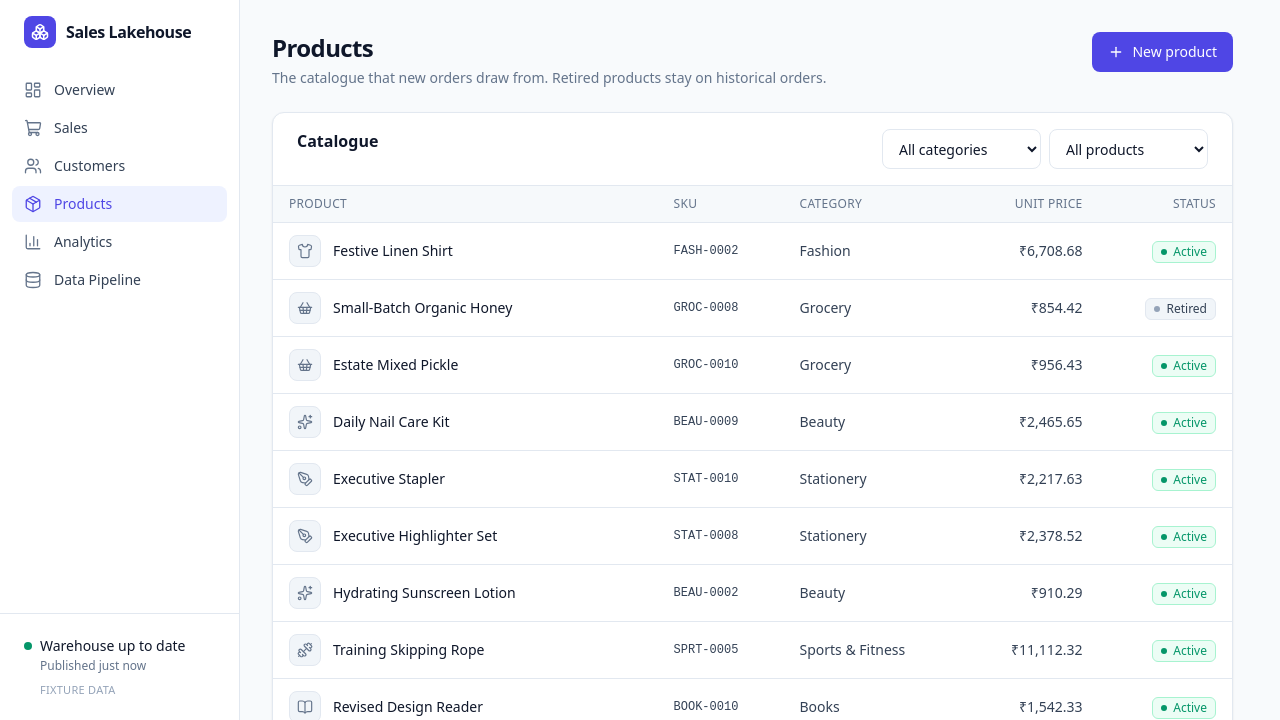
Test: products › filters the catalogue to retired products
The width and height of the screenshot is (1280, 720).
Select "Retired only" in the dropdown named "Filter by availability". click: (1128, 149)
box: [1049,129,1208,169]
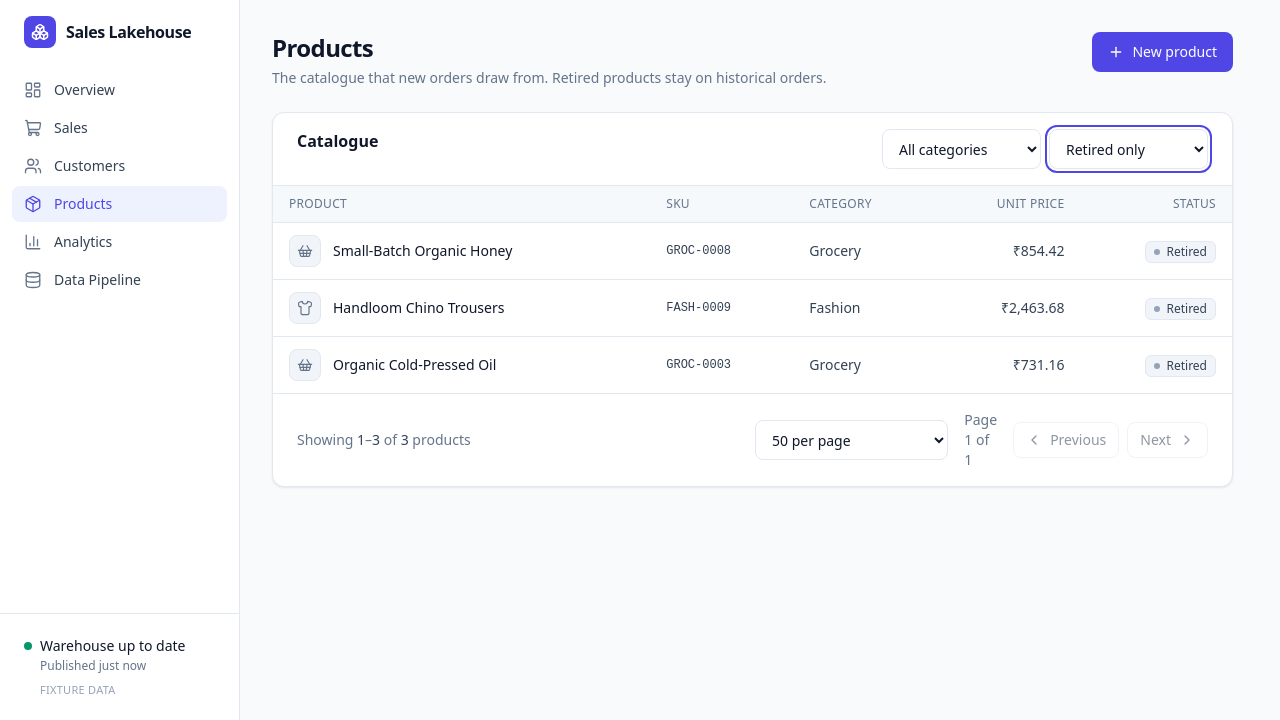
Expected: the text "Retired" is shown, [1146,240,1216,262]
Expected: the text "Active" is gone
